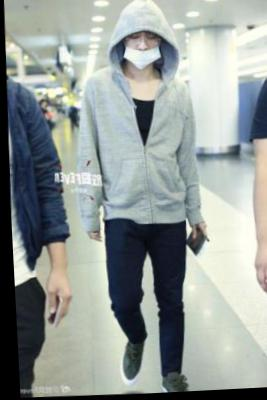WRONG: (122, 33, 164, 73)
